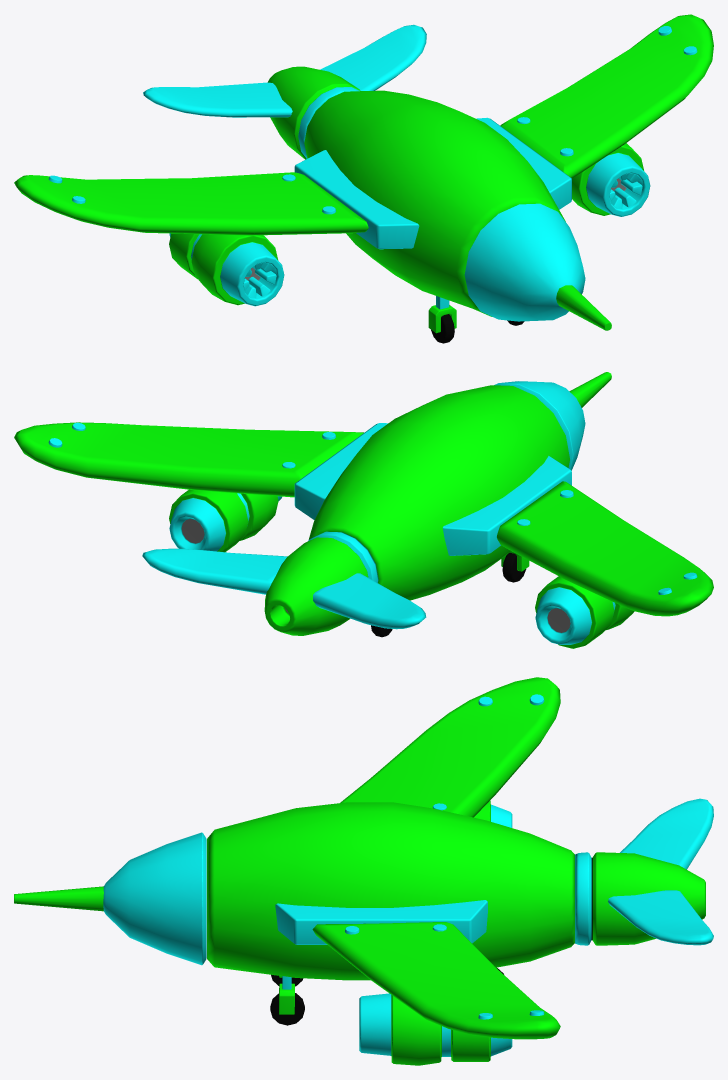
3 views of the same model, one above another, from view 1: azimuth 30°, elevation 25°; view 2: azimuth 150°, elevation 25°; view 3: azimuth 270°, elevation 25° (orthographic). The views are drawn at different scales.
Parts seen in each view (by area): view 1: Body10_A, Wing10_R, Wing10_L, Propeller10, Fin10, Spurt10_R, Spurt10_L, Body10_C; view 2: Body10_A, Wing10_L, Wing10_R, Fin10, Spurt10_L, Spurt10_R, Propeller10, Body10_C; view 3: Body10_A, Wing10_L, Wing10_R, Fin10, Propeller10, Spurt10_L, Body10_D.
Part boxes in pixels (x1=…): Body10_A: x1=304, y1=90, x2=565, y2=316; Wing10_R: x1=14, y1=150, x2=419, y2=249; Wing10_L: x1=476, y1=14, x2=713, y2=209; Propeller10: x1=464, y1=203, x2=611, y2=330; Fin10: x1=143, y1=24, x2=426, y2=159; Spurt10_R: x1=169, y1=233, x2=284, y2=306; Spurt10_L: x1=572, y1=143, x2=650, y2=216; Body10_C: x1=428, y1=296, x2=456, y2=343; Body10_A: x1=308, y1=385, x2=569, y2=600; Wing10_L: x1=14, y1=422, x2=387, y2=519; Wing10_R: x1=442, y1=456, x2=713, y2=616; Fin10: x1=142, y1=531, x2=426, y2=635; Spurt10_L: x1=169, y1=489, x2=281, y2=552; Spurt10_R: x1=535, y1=576, x2=634, y2=648; Propeller10: x1=494, y1=372, x2=611, y2=470; Body10_C: x1=501, y1=551, x2=529, y2=582; Body10_A: x1=207, y1=802, x2=574, y2=980; Wing10_L: x1=275, y1=900, x2=560, y2=1039; Wing10_R: x1=340, y1=677, x2=560, y2=817; Fin10: x1=575, y1=798, x2=713, y2=945; Propeller10: x1=14, y1=832, x2=206, y2=965; Spurt10_L: x1=359, y1=993, x2=512, y2=1065; Body10_D: x1=270, y1=976, x2=304, y2=1025.
Size of the model in its own units: 22.24 by 5.7 by 18.62.
